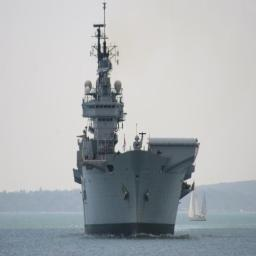Portanaves: (75, 2, 202, 241)
